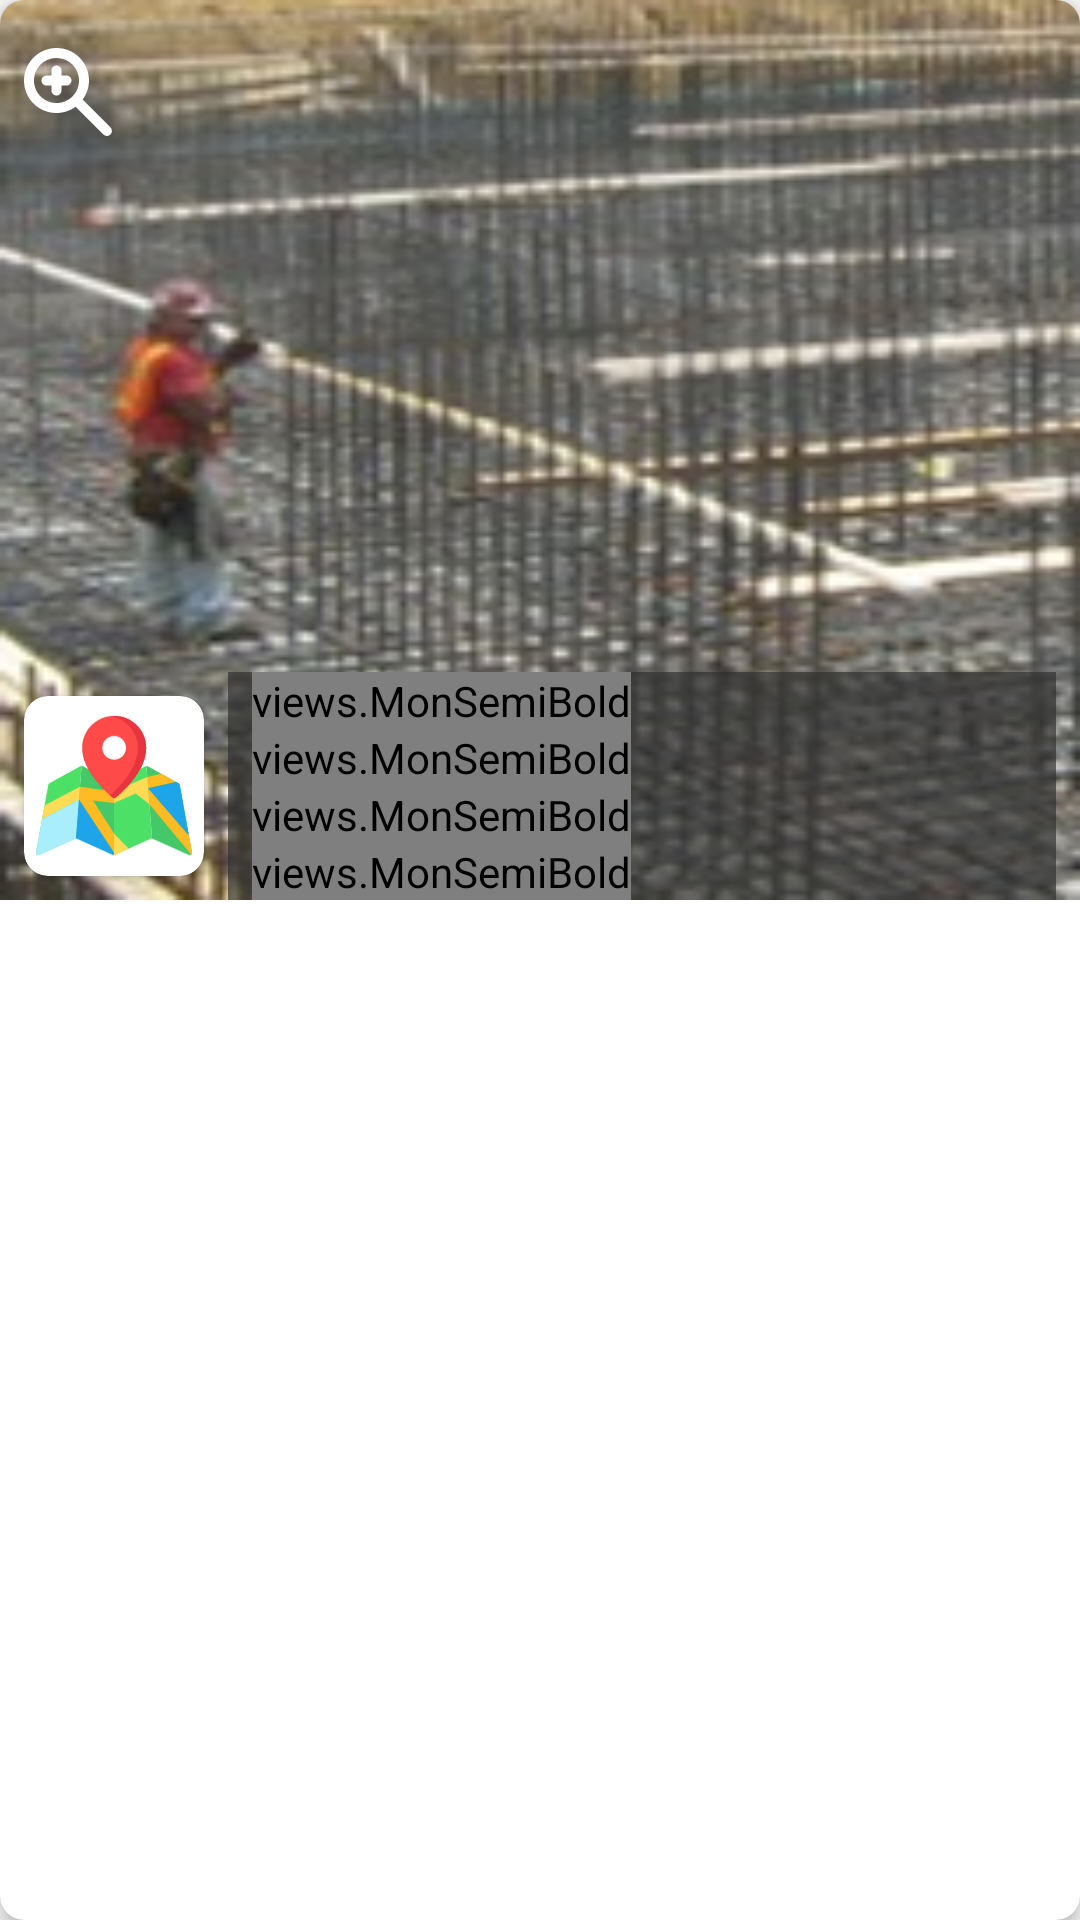

Point at icon controls on the screen. Image size 1080 × 1920, points as (x,y).
map: (114,786)
zoom: (69,93)
